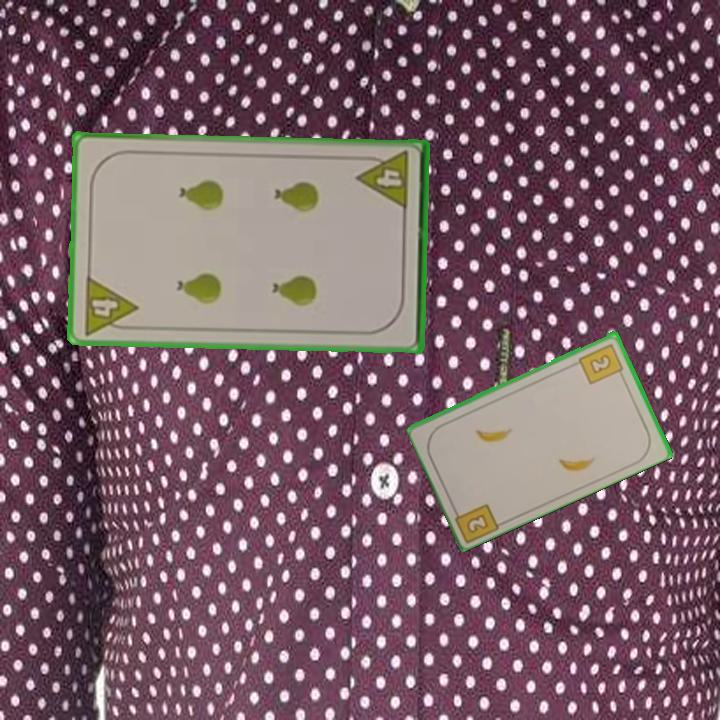2b: (449, 500, 503, 544), (576, 340, 626, 387)
4p: (79, 272, 140, 338), (354, 148, 412, 213)
